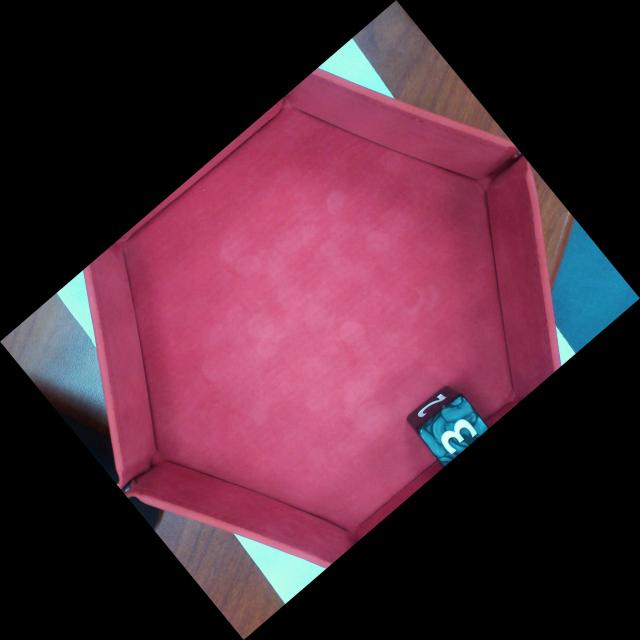dice: (417, 390, 491, 470)
